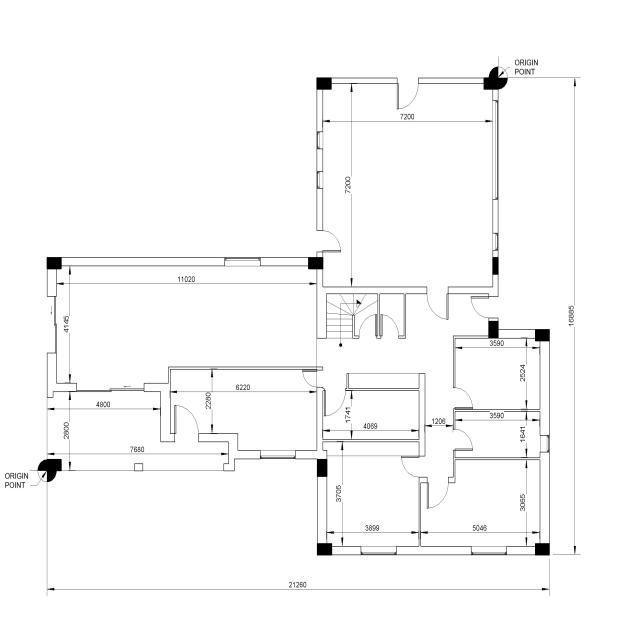Column: (535, 543, 550, 556), (317, 543, 332, 556), (316, 78, 332, 90), (46, 257, 62, 269), (488, 321, 499, 338), (484, 77, 498, 90), (535, 329, 550, 341), (317, 459, 327, 477), (47, 459, 62, 471), (308, 257, 323, 269), (492, 257, 498, 275)
Door: (174, 405, 199, 442), (471, 293, 498, 321), (426, 286, 448, 320), (427, 476, 449, 508), (397, 78, 418, 109), (324, 389, 346, 416), (317, 230, 341, 252), (401, 456, 425, 477), (379, 314, 399, 339), (359, 314, 378, 339), (453, 429, 473, 451), (453, 388, 473, 409), (302, 370, 324, 387)
Sliding Door: (76, 383, 144, 392), (47, 296, 57, 353)
Staircase: (327, 294, 378, 347)
Window: (493, 100, 498, 200), (471, 546, 507, 555), (224, 257, 260, 266), (260, 450, 296, 459), (361, 546, 396, 555), (540, 435, 550, 452), (317, 171, 323, 189), (317, 132, 323, 149), (493, 233, 498, 250)
